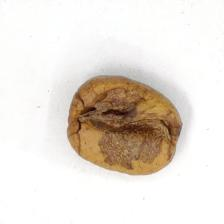NG: (76, 81, 169, 172)
